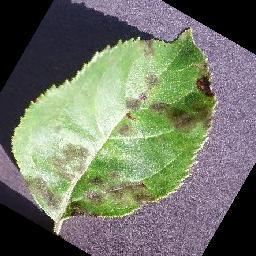apple healthy: (9, 26, 218, 234)
